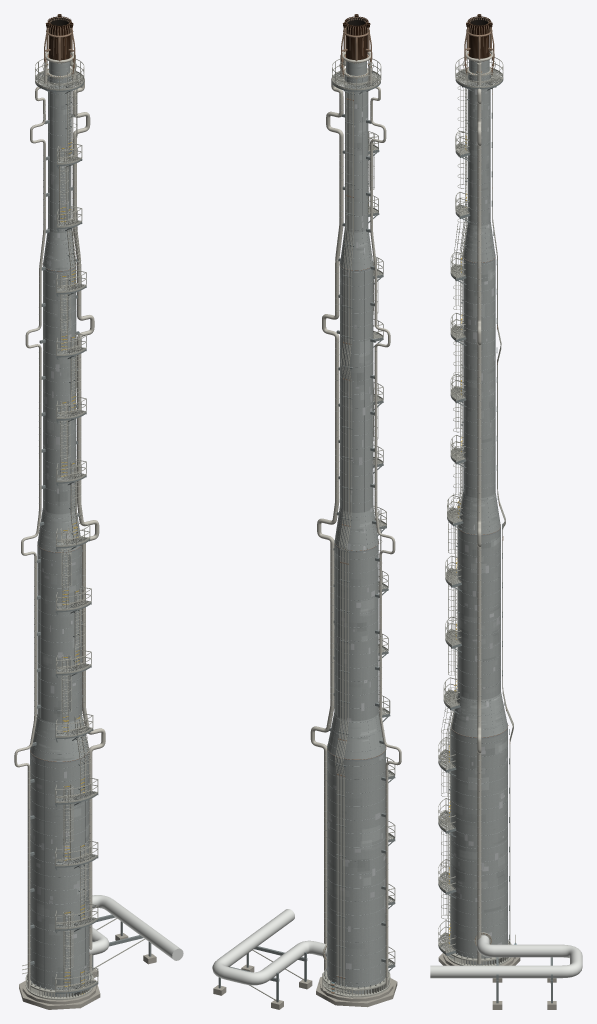
The model's file is stack.glb.
The picture shows the model from 3 angles, left to right: view 1: azimuth 30°, elevation 25°; view 2: azimuth 150°, elevation 25°; view 3: azimuth 270°, elevation 25°; orthographic projection. The views are drawn at different scales.
Parts seen in each view (by area): view 1: 02 | Cylindrical stack cladding with three short reducers, 01 | Octagonal concrete footing and anchored skirt, 09 | Open heat stained flare barrel; view 2: 02 | Cylindrical stack cladding with three short reducers, 01 | Octagonal concrete footing and anchored skirt, 09 | Open heat stained flare barrel; view 3: 02 | Cylindrical stack cladding with three short reducers, 01 | Octagonal concrete footing and anchored skirt, 09 | Open heat stained flare barrel.
Part boxes in pixels (x1,y1,x2,y2): 02 | Cylindrical stack cladding with three short reducers: (30,61,88,997); 01 | Octagonal concrete footing and anchored skirt: (14,14,183,1009); 09 | Open heat stained flare barrel: (46,14,73,60); 02 | Cylindrical stack cladding with three short reducers: (327,61,385,994); 01 | Octagonal concrete footing and anchored skirt: (212,14,401,1009); 09 | Open heat stained flare barrel: (343,14,370,59); 02 | Cylindrical stack cladding with three short reducers: (451,60,507,965); 01 | Octagonal concrete footing and anchored skirt: (430,14,582,1009); 09 | Open heat stained flare barrel: (466,14,492,58).
Bounding box in the file's own units: 12.84 × 80.11 × 11.78.
3 materials, 3 textured.
